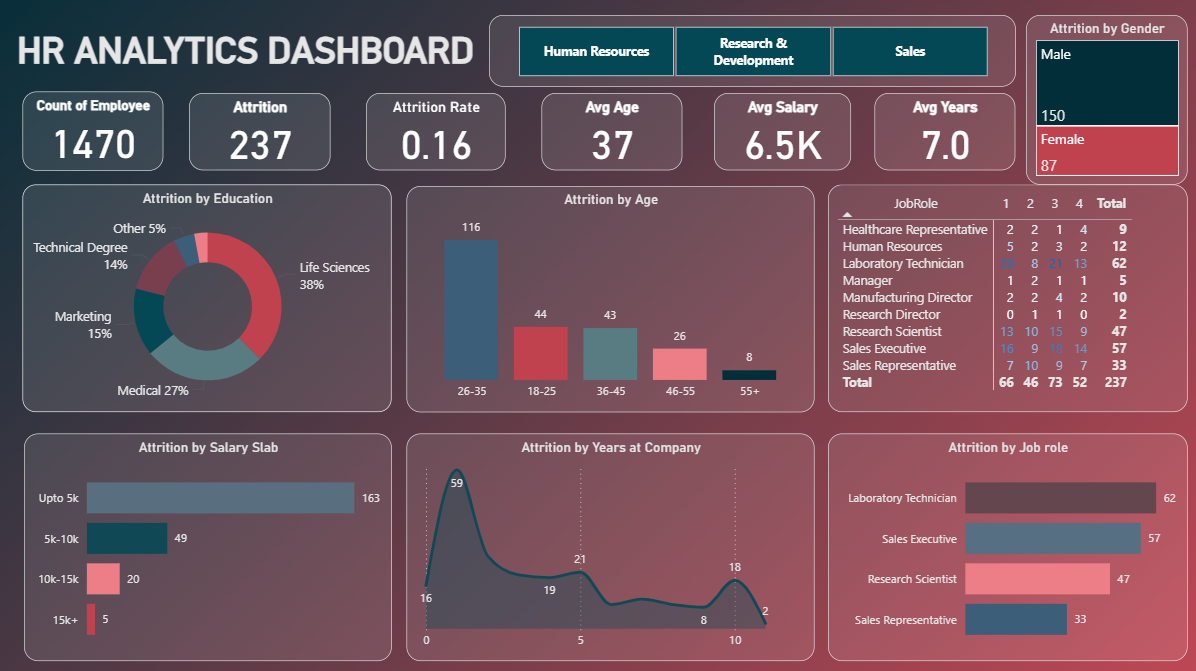

This screenshot's page, from the dashboard's own definition file:
{"tool":"powerbi","page":{"name":"Page 1","canvas":[1280,720],"ordinal":0},"visuals":[{"type":"card","title":"Count of Employee","fields":{"Values":["CountNonNull(HR_Analytics.EmpID)"]},"box":[30,103,149,84],"z":0},{"type":"card","title":"Attrition","fields":{"Values":["Sum(HR_Analytics.Attrition count)"]},"box":[207,105,150,82],"z":1000},{"type":"card","title":"Attrition Rate","fields":{"Values":["HR_Analytics.AttritionRate"]},"box":[394,105,148,82],"z":2000},{"type":"card","title":"Avg Age","fields":{"Values":["Avg(HR_Analytics.Age)"]},"box":[580,105,149,82],"z":3000},{"type":"card","title":"Avg Years","fields":{"Values":["Avg(HR_Analytics.YearsAtCompany)"]},"box":[934,105,149,82],"z":4000},{"type":"card","title":"Avg Salary","fields":{"Values":["Avg(HR_Analytics.MonthlyIncome)"]},"box":[764,105,145,82],"z":5000},{"type":"donutChart","title":"Attrition by Education","fields":{"Category":["HR_Analytics.EducationField","HR_Analytics.Education"],"Y":["Sum(HR_Analytics.Attrition count)"]},"box":[30,201.4,391.4,241.4],"z":6000},{"type":"columnChart","title":"Attrition by Age","fields":{"Category":["HR_Analytics.AgeGroup"],"Y":["Sum(HR_Analytics.Attrition count)"]},"box":[437.1,202.9,432.9,240],"z":7000},{"type":"pivotTable","fields":{"Rows":["HR_Analytics.JobRole"],"Columns":["HR_Analytics.JobSatisfaction"],"Values":["Sum(HR_Analytics.Attrition count)"]},"box":[884.3,201.4,381.4,241.4],"z":8000},{"type":"barChart","title":"Attrition by Salary Slab","fields":{"Category":["HR_Analytics.SalarySlab"],"Y":["Sum(HR_Analytics.Attrition count)"]},"box":[31.4,465.7,390,241.4],"z":9000},{"type":"barChart","title":"Attrition by Job role","fields":{"Y":["Sum(HR_Analytics.Attrition count)"],"Category":["HR_Analytics.JobRole"]},"box":[884.3,465.7,381.4,241.4],"z":10000},{"type":"areaChart","title":"Attrition by Years at Company","fields":{"Category":["HR_Analytics.YearsAtCompany"],"Y":["Sum(HR_Analytics.Attrition count)"]},"box":[437.1,465.7,432.9,241.4],"z":11000},{"type":"treemap","title":"Attrition by Gender","fields":{"Group":["HR_Analytics.Gender"],"Values":["Sum(HR_Analytics.Attrition count)"]},"box":[1093.9,21.7,171.3,179.7],"z":12000},{"type":"slicer","fields":{"Values":["HR_Analytics.Department"]},"box":[524.3,22.9,558.6,75.7],"z":13000},{"type":"textbox","box":[10,31.4,514.3,61.4],"z":14000}]}

Visuals, with their boxes in screenshot pixels (x1, y1, x2, y2), scaled from the page's 1280x720 canvas onto the 1196x671 screenshot:
"Count of Employee" card: 28:96:167:174
"Attrition" card: 193:98:334:174
"Attrition Rate" card: 368:98:506:174
"Avg Age" card: 542:98:681:174
"Avg Years" card: 873:98:1012:174
"Avg Salary" card: 714:98:849:174
"Attrition by Education" donutChart: 28:188:394:413
"Attrition by Age" columnChart: 408:189:813:413
pivotTable - HR_Analytics.JobRole x HR_Analytics.JobSatisfaction: 826:188:1183:413
"Attrition by Salary Slab" barChart: 29:434:394:659
"Attrition by Job role" barChart: 826:434:1183:659
"Attrition by Years at Company" areaChart: 408:434:813:659
"Attrition by Gender" treemap: 1022:20:1182:188
slicer - HR_Analytics.Department: 490:21:1012:92
textbox: 9:29:490:86
